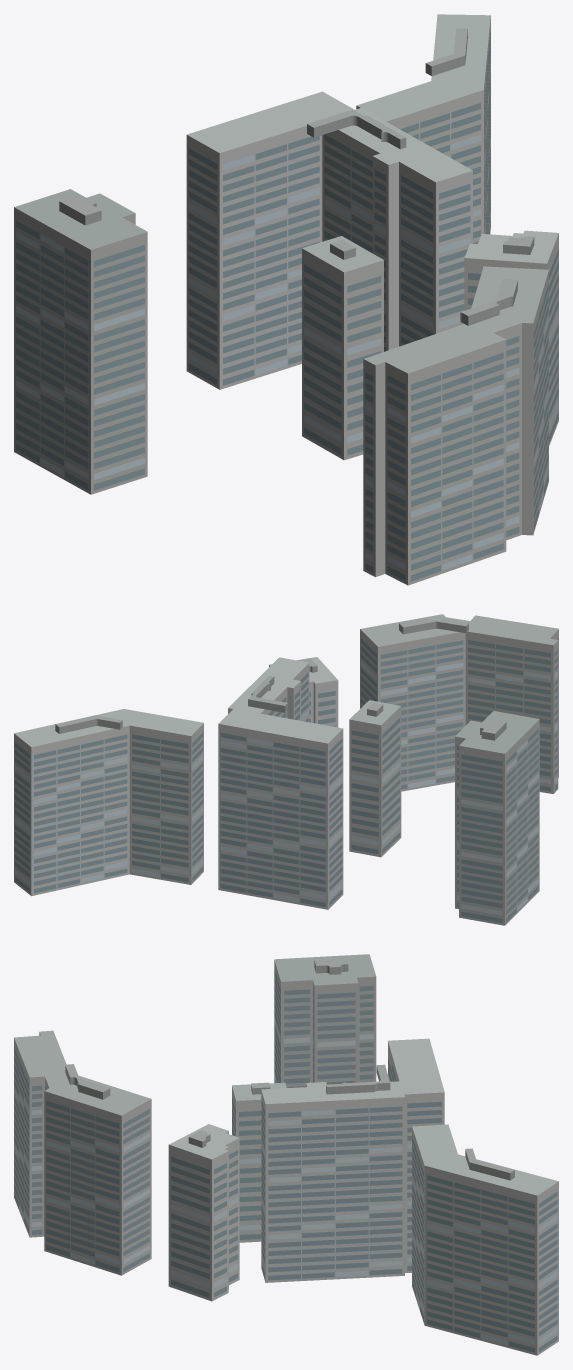
Rendered from apt-a13084802.glb.
3 views of the same model, one above another, from view 1: azimuth 30°, elevation 25°; view 2: azimuth 150°, elevation 25°; view 3: azimuth 270°, elevation 25° (orthographic). The views are drawn at different scales.
Visible parts, largest first — view 1: apt-a13084802; view 2: apt-a13084802; view 3: apt-a13084802.
Boxes of the visible parts, x1,y1,x2,y2 form: apt-a13084802: [14, 14, 558, 585]; apt-a13084802: [14, 614, 558, 925]; apt-a13084802: [14, 954, 558, 1355].
Size of the model in its own units: 150 by 62 by 159.
